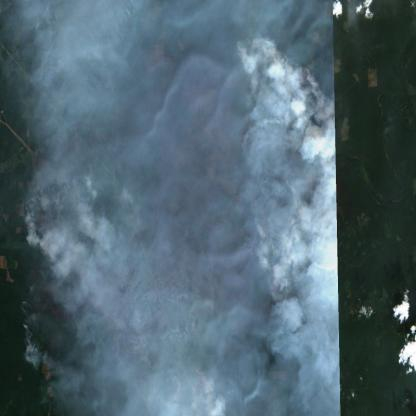fire: (229, 24, 338, 254), (182, 358, 220, 411)
